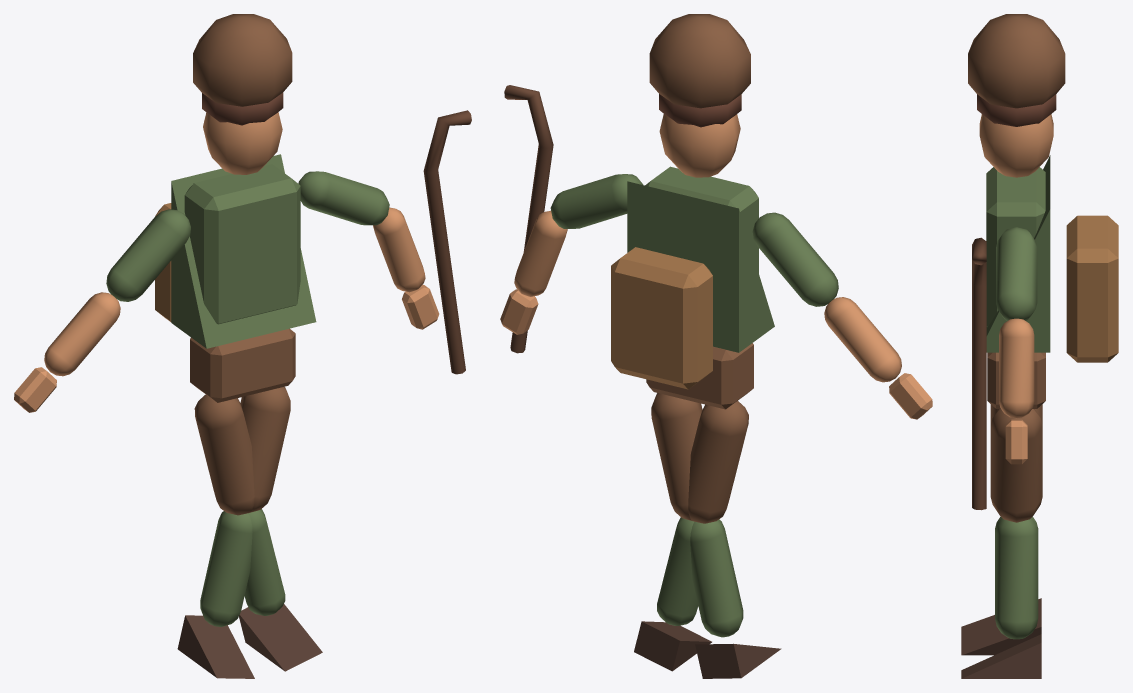
File: adventurer.rustic.glb
The picture shows the model from 3 angles, left to right: view 1: azimuth 30°, elevation 25°; view 2: azimuth 150°, elevation 25°; view 3: azimuth 270°, elevation 25°; orthographic projection.
Parts seen in each view (by area): view 1: torso, accessory.head, tunic, pelvis, thigh.left, shin.right, accessory.main-hand, upper-arm.left, thigh.right, head, upper-arm.right, forearm.left (+8 smaller); view 2: accessory.back, tunic, accessory.head, thigh.left, shin.right, upper-arm.left, thigh.right, head, forearm.left, pelvis, upper-arm.right, torso (+8 smaller); view 3: accessory.back, accessory.head, shin.left, thigh.right, torso, accessory.main-hand, upper-arm.right, head, forearm.right, tunic, foot.left, foot.right (+3 smaller).
Boxes of the visible parts, bbox=[...] form: torso: bbox=[184, 164, 300, 324]; accessory.head: bbox=[193, 14, 292, 106]; tunic: bbox=[171, 154, 316, 348]; pelvis: bbox=[190, 328, 295, 402]; thigh.left: bbox=[194, 394, 254, 515]; shin.right: bbox=[200, 511, 252, 626]; accessory.main-hand: bbox=[423, 110, 471, 374]; upper-arm.left: bbox=[106, 209, 190, 301]; thigh.right: bbox=[240, 386, 290, 512]; head: bbox=[203, 112, 282, 174]; upper-arm.right: bbox=[298, 171, 389, 225]; forearm.left: bbox=[44, 292, 120, 376]; accessory.back: bbox=[611, 247, 712, 389]; tunic: bbox=[627, 181, 774, 352]; accessory.head: bbox=[649, 14, 750, 108]; thigh.left: bbox=[688, 401, 748, 523]; shin.right: bbox=[690, 519, 743, 637]; upper-arm.left: bbox=[752, 212, 838, 306]; thigh.right: bbox=[651, 393, 702, 520]; head: bbox=[659, 114, 740, 177]; forearm.left: bbox=[824, 297, 901, 382]; pelvis: bbox=[646, 343, 753, 409]; upper-arm.right: bbox=[550, 174, 643, 228]; torso: bbox=[645, 166, 758, 273]; accessory.back: bbox=[1066, 215, 1118, 362]; accessory.head: bbox=[968, 14, 1065, 108]; shin.left: bbox=[995, 517, 1038, 639]; thigh.right: bbox=[990, 409, 1042, 522]; torso: bbox=[986, 167, 1045, 326]; accessory.main-hand: bbox=[972, 237, 986, 510]; upper-arm.right: bbox=[996, 227, 1037, 320]; head: bbox=[979, 114, 1053, 177]; forearm.right: bbox=[999, 318, 1034, 418]; tunic: bbox=[986, 155, 1050, 352]; foot.left: bbox=[961, 634, 1041, 678]; foot.right: bbox=[961, 598, 1041, 655].
Bounding box in the file's own units: 2.33 × 3.28 × 0.725.
